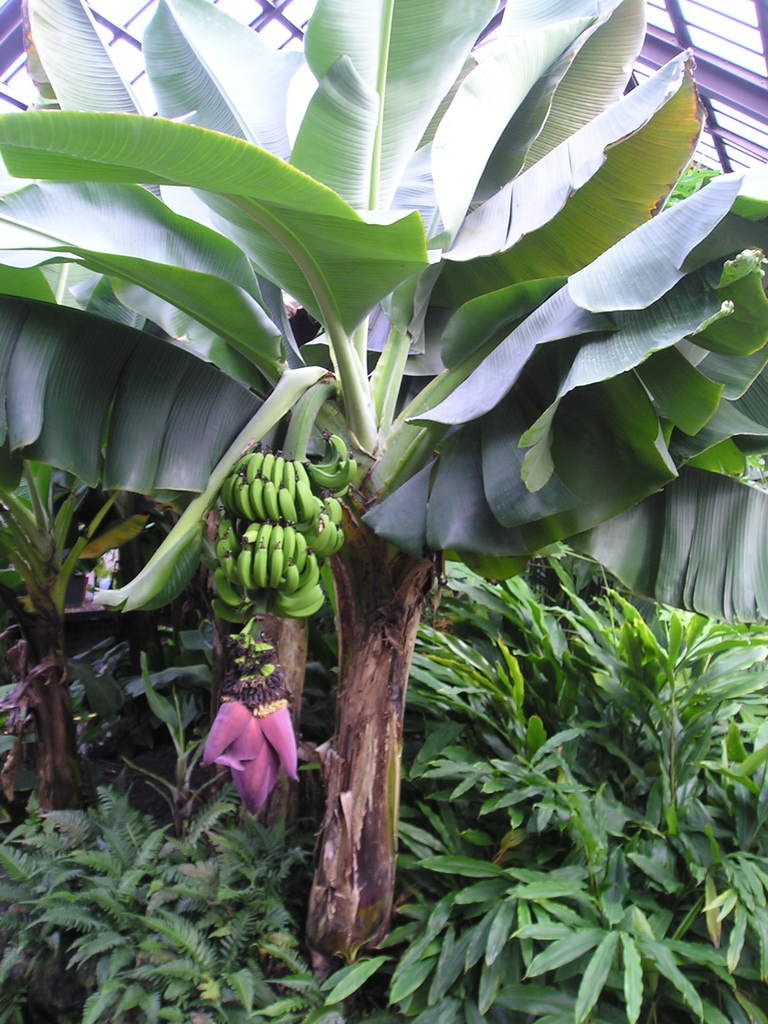Banana: (204, 431, 342, 632)
